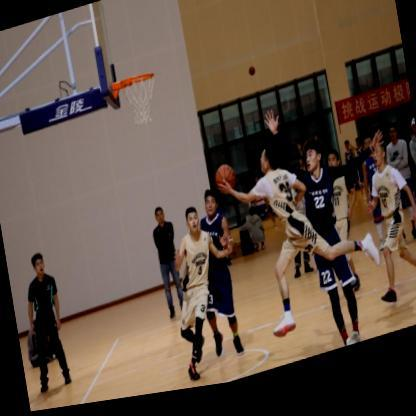basketball: (213, 168, 237, 203)
rim: (120, 74, 162, 134)
